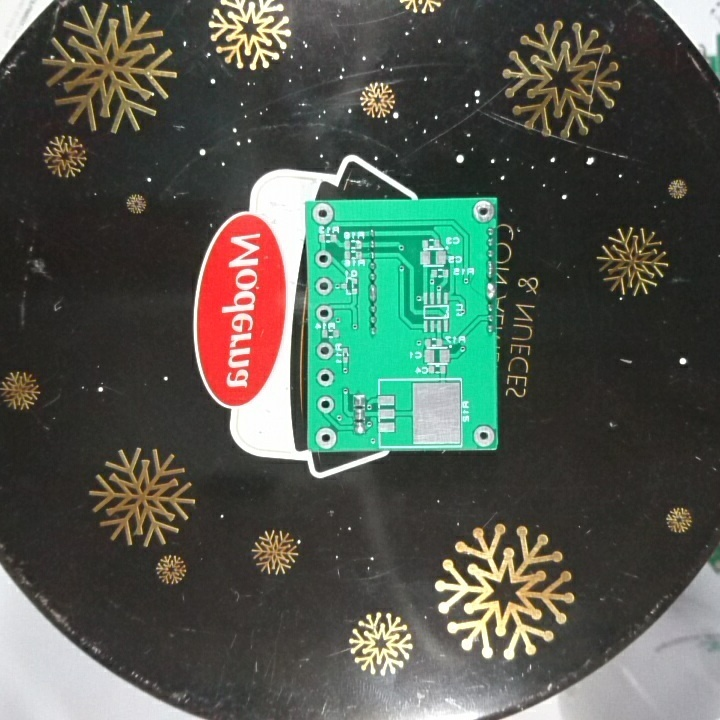F: (471, 198, 497, 225), (310, 201, 336, 226), (314, 425, 339, 450), (472, 423, 496, 449), (315, 394, 338, 418), (315, 367, 337, 388), (314, 276, 334, 297), (315, 340, 335, 360), (314, 249, 333, 269), (314, 304, 334, 322)
P: (484, 280, 497, 303), (485, 258, 496, 280), (367, 282, 377, 303)
